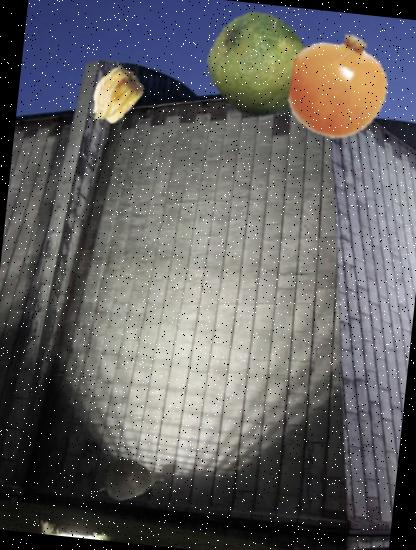Beetroot: (94, 442, 170, 518)
Limes: (199, 8, 317, 126)
Physalis: (279, 26, 399, 146), (78, 62, 148, 132)
